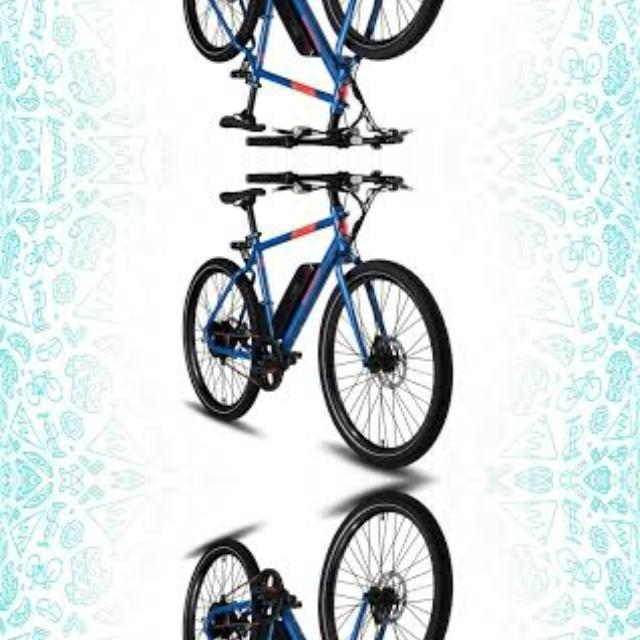obstacle: (167, 163, 466, 467), (166, 0, 465, 157), (166, 493, 465, 640)
